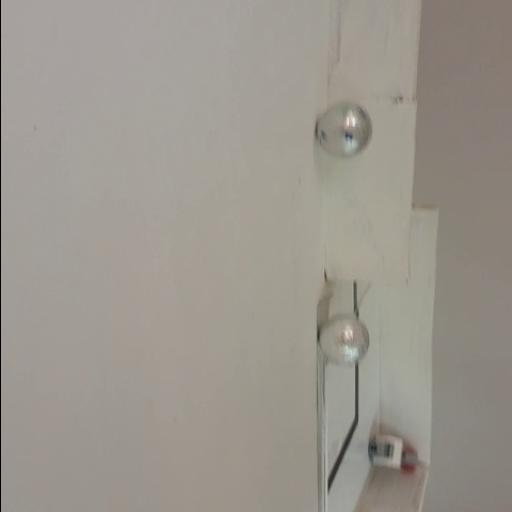alive: (315, 102, 371, 158), (318, 314, 370, 366)
